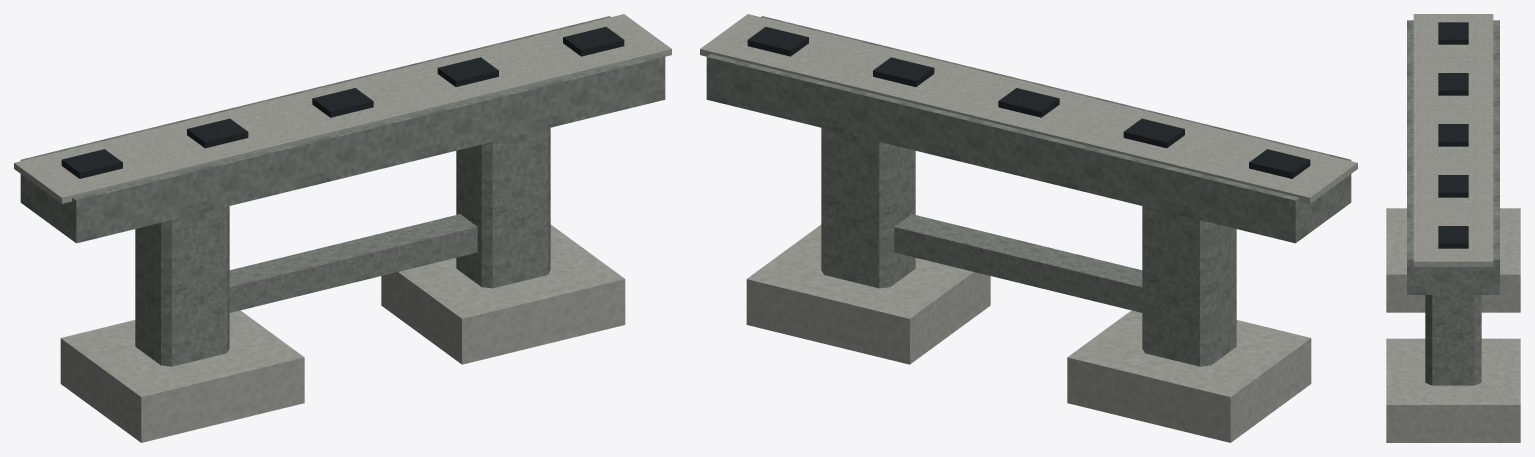
The model's file is PZ_Pier_TwinColumn_05m.glb.
3 renders of one model, left to right at view 1: azimuth 30°, elevation 25°; view 2: azimuth 150°, elevation 25°; view 3: azimuth 270°, elevation 25°, orthographic. The views are drawn at different scales.
Visible parts, largest first — view 1: PZ_Pier_TwinColumn_05m_PIER_HEADSTOCK, PZ_Pier_TwinColumn_05m_CAP_COPING, PZ_Pier_TwinColumn_05m_WEST_COLUMN_FOOTING, PZ_Pier_TwinColumn_05m_EAST_COLUMN_FOOTING, PZ_Pier_TwinColumn_05m_WEST_OCTAGONAL_COLUMN, PZ_Pier_TwinColumn_05m_EAST_OCTAGONAL_COLUMN, PZ_Pier_TwinColumn_05m_CENTRE_TIE_BEAM, PZ_Pier_TwinColumn_05m_NEOPRENE_BEARING_1, PZ_Pier_TwinColumn_05m_NEOPRENE_BEARING_3, PZ_Pier_TwinColumn_05m_NEOPRENE_BEARING_4, PZ_Pier_TwinColumn_05m_NEOPRENE_BEARING_2, PZ_Pier_TwinColumn_05m_NEOPRENE_BEARING_5; view 2: PZ_Pier_TwinColumn_05m_PIER_HEADSTOCK, PZ_Pier_TwinColumn_05m_CAP_COPING, PZ_Pier_TwinColumn_05m_WEST_COLUMN_FOOTING, PZ_Pier_TwinColumn_05m_EAST_COLUMN_FOOTING, PZ_Pier_TwinColumn_05m_WEST_OCTAGONAL_COLUMN, PZ_Pier_TwinColumn_05m_EAST_OCTAGONAL_COLUMN, PZ_Pier_TwinColumn_05m_CENTRE_TIE_BEAM, PZ_Pier_TwinColumn_05m_NEOPRENE_BEARING_1, PZ_Pier_TwinColumn_05m_NEOPRENE_BEARING_3, PZ_Pier_TwinColumn_05m_NEOPRENE_BEARING_4, PZ_Pier_TwinColumn_05m_NEOPRENE_BEARING_2, PZ_Pier_TwinColumn_05m_NEOPRENE_BEARING_5; view 3: PZ_Pier_TwinColumn_05m_CAP_COPING, PZ_Pier_TwinColumn_05m_EAST_COLUMN_FOOTING, PZ_Pier_TwinColumn_05m_PIER_HEADSTOCK, PZ_Pier_TwinColumn_05m_EAST_OCTAGONAL_COLUMN, PZ_Pier_TwinColumn_05m_WEST_COLUMN_FOOTING, PZ_Pier_TwinColumn_05m_NEOPRENE_BEARING_1, PZ_Pier_TwinColumn_05m_NEOPRENE_BEARING_2, PZ_Pier_TwinColumn_05m_NEOPRENE_BEARING_3, PZ_Pier_TwinColumn_05m_NEOPRENE_BEARING_4, PZ_Pier_TwinColumn_05m_NEOPRENE_BEARING_5.
Part boxes in pixels (left/top/right/bottom): PZ_Pier_TwinColumn_05m_PIER_HEADSTOCK: left=20, top=16, right=665, bottom=243; PZ_Pier_TwinColumn_05m_CAP_COPING: left=14, top=14, right=671, bottom=203; PZ_Pier_TwinColumn_05m_WEST_COLUMN_FOOTING: left=60, top=310, right=304, bottom=442; PZ_Pier_TwinColumn_05m_EAST_COLUMN_FOOTING: left=381, top=224, right=625, bottom=364; PZ_Pier_TwinColumn_05m_WEST_OCTAGONAL_COLUMN: left=135, top=206, right=229, bottom=366; PZ_Pier_TwinColumn_05m_EAST_OCTAGONAL_COLUMN: left=456, top=127, right=550, bottom=288; PZ_Pier_TwinColumn_05m_CENTRE_TIE_BEAM: left=229, top=214, right=477, bottom=312; PZ_Pier_TwinColumn_05m_NEOPRENE_BEARING_1: left=61, top=149, right=122, bottom=178; PZ_Pier_TwinColumn_05m_NEOPRENE_BEARING_3: left=312, top=88, right=373, bottom=117; PZ_Pier_TwinColumn_05m_NEOPRENE_BEARING_4: left=437, top=57, right=498, bottom=86; PZ_Pier_TwinColumn_05m_NEOPRENE_BEARING_2: left=187, top=118, right=248, bottom=148; PZ_Pier_TwinColumn_05m_NEOPRENE_BEARING_5: left=563, top=27, right=624, bottom=56; PZ_Pier_TwinColumn_05m_PIER_HEADSTOCK: left=706, top=16, right=1351, bottom=243; PZ_Pier_TwinColumn_05m_CAP_COPING: left=700, top=14, right=1357, bottom=203; PZ_Pier_TwinColumn_05m_WEST_COLUMN_FOOTING: left=1067, top=310, right=1311, bottom=442; PZ_Pier_TwinColumn_05m_EAST_COLUMN_FOOTING: left=746, top=224, right=990, bottom=364; PZ_Pier_TwinColumn_05m_WEST_OCTAGONAL_COLUMN: left=1142, top=206, right=1236, bottom=366; PZ_Pier_TwinColumn_05m_EAST_OCTAGONAL_COLUMN: left=821, top=127, right=915, bottom=288; PZ_Pier_TwinColumn_05m_CENTRE_TIE_BEAM: left=894, top=214, right=1142, bottom=312; PZ_Pier_TwinColumn_05m_NEOPRENE_BEARING_1: left=1249, top=149, right=1310, bottom=178; PZ_Pier_TwinColumn_05m_NEOPRENE_BEARING_3: left=998, top=88, right=1059, bottom=117; PZ_Pier_TwinColumn_05m_NEOPRENE_BEARING_4: left=873, top=57, right=934, bottom=86; PZ_Pier_TwinColumn_05m_NEOPRENE_BEARING_2: left=1123, top=118, right=1184, bottom=148; PZ_Pier_TwinColumn_05m_NEOPRENE_BEARING_5: left=747, top=27, right=808, bottom=56; PZ_Pier_TwinColumn_05m_CAP_COPING: left=1413, top=14, right=1493, bottom=266; PZ_Pier_TwinColumn_05m_EAST_COLUMN_FOOTING: left=1386, top=338, right=1520, bottom=442; PZ_Pier_TwinColumn_05m_PIER_HEADSTOCK: left=1407, top=20, right=1499, bottom=294; PZ_Pier_TwinColumn_05m_EAST_OCTAGONAL_COLUMN: left=1425, top=295, right=1481, bottom=385; PZ_Pier_TwinColumn_05m_WEST_COLUMN_FOOTING: left=1386, top=208, right=1520, bottom=312; PZ_Pier_TwinColumn_05m_NEOPRENE_BEARING_1: left=1438, top=22, right=1468, bottom=44; PZ_Pier_TwinColumn_05m_NEOPRENE_BEARING_2: left=1438, top=73, right=1468, bottom=95; PZ_Pier_TwinColumn_05m_NEOPRENE_BEARING_3: left=1438, top=124, right=1468, bottom=146; PZ_Pier_TwinColumn_05m_NEOPRENE_BEARING_4: left=1438, top=175, right=1468, bottom=197; PZ_Pier_TwinColumn_05m_NEOPRENE_BEARING_5: left=1438, top=226, right=1468, bottom=248.
Size of the model in its own units: 10.46 by 4.17 by 2.4.
4 materials, 4 textured.
